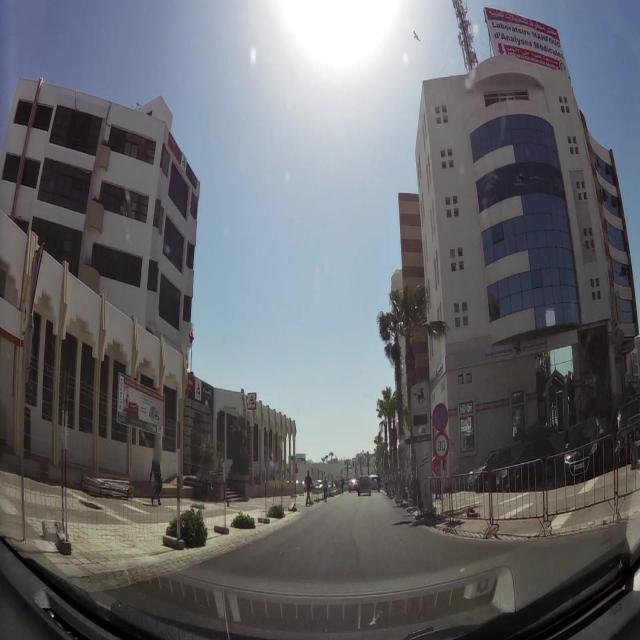forb_stopping: (431, 403, 450, 435)
